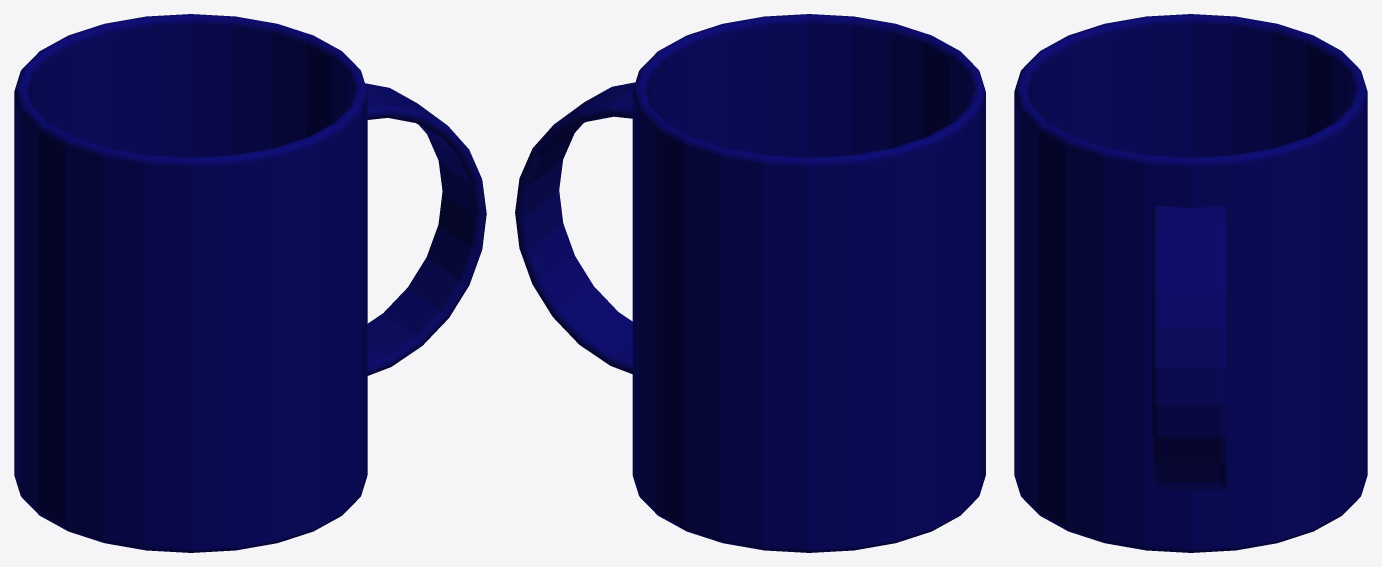
The picture shows the model from 3 angles, left to right: view 1: azimuth 30°, elevation 25°; view 2: azimuth 150°, elevation 25°; view 3: azimuth 270°, elevation 25°; orthographic projection.
Parts seen in each view (by area): view 1: mesh2.001_mesh2-geometry, mesh1.001_mesh1-geometry; view 2: mesh2.001_mesh2-geometry, mesh1.001_mesh1-geometry; view 3: mesh2.001_mesh2-geometry, mesh1.001_mesh1-geometry.
Boxes of the visible parts, left/top/right/bottom form: mesh2.001_mesh2-geometry: left=14, top=14, right=367, bottom=552; mesh1.001_mesh1-geometry: left=365, top=83, right=486, bottom=375; mesh2.001_mesh2-geometry: left=632, top=14, right=985, bottom=552; mesh1.001_mesh1-geometry: left=515, top=82, right=635, bottom=374; mesh2.001_mesh2-geometry: left=1014, top=14, right=1367, bottom=552; mesh1.001_mesh1-geometry: left=1152, top=206, right=1226, bottom=490.
Bounding box in the file's own units: 0.6647 × 0.5798 × 0.4711.
